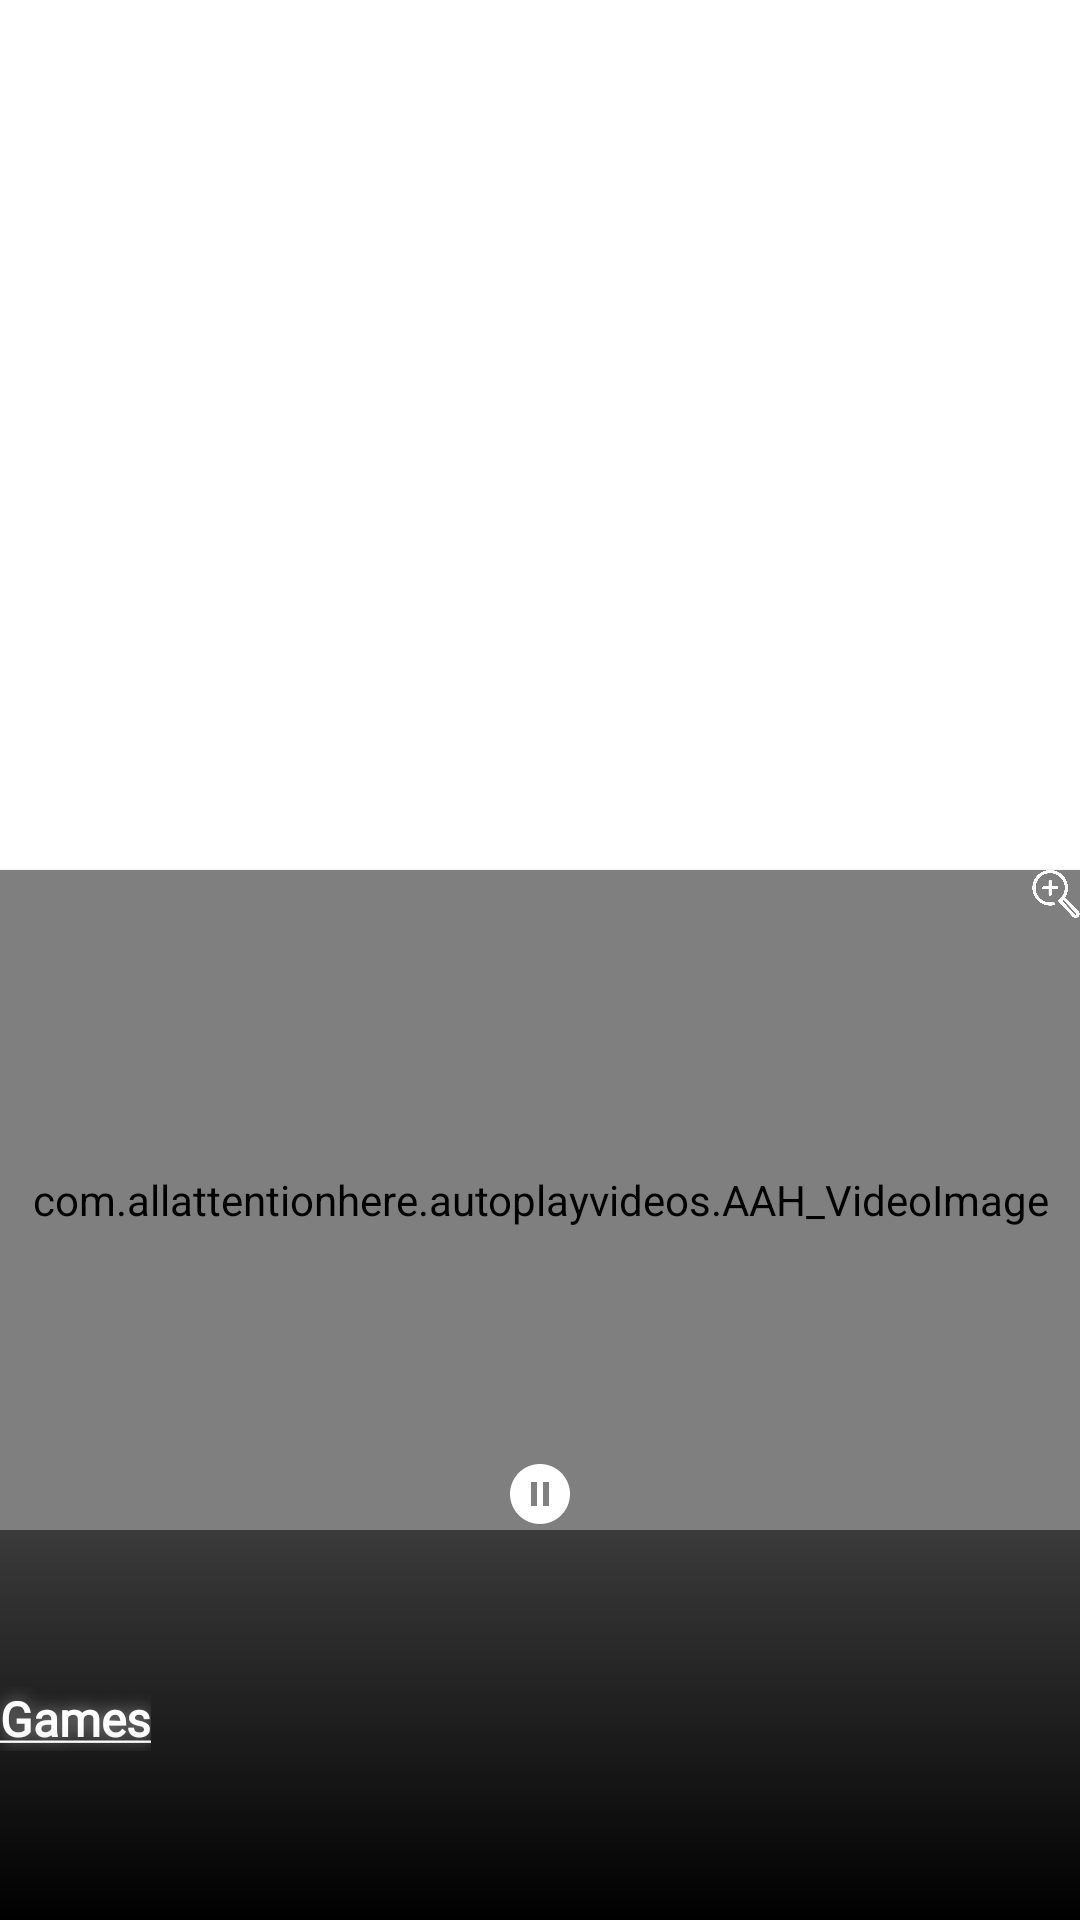

Point at icon controls on the screen. Image size 1080w x 1920h, points as (x=x, y=y).
pauseicon: (x=540, y=1494)
